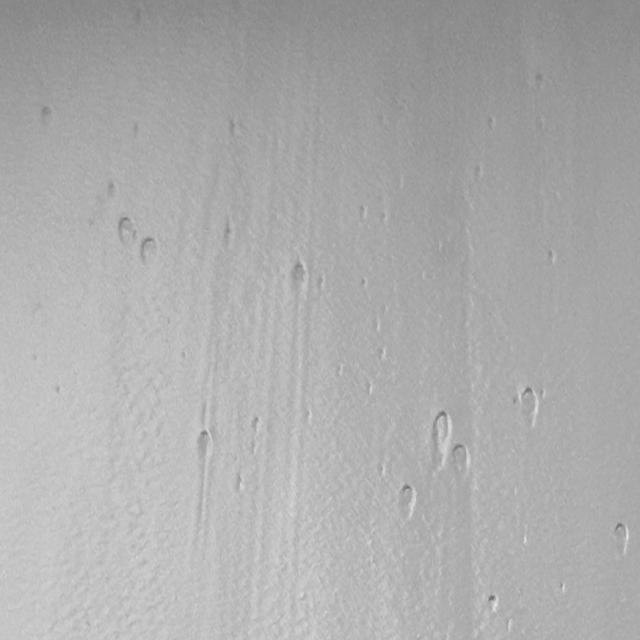pin holes: (423, 410, 453, 468), (516, 386, 544, 428), (116, 212, 140, 247), (395, 483, 418, 519), (610, 521, 633, 556), (139, 237, 163, 267), (289, 260, 310, 290), (452, 446, 472, 477), (195, 431, 213, 461), (36, 104, 56, 130), (227, 112, 242, 146), (220, 223, 238, 250), (532, 71, 551, 94), (128, 121, 146, 143), (482, 115, 500, 137), (485, 591, 502, 614), (543, 248, 561, 269), (470, 163, 486, 185), (107, 182, 122, 202), (374, 344, 388, 362), (234, 471, 244, 494), (250, 439, 259, 464), (358, 203, 370, 221), (315, 273, 326, 292), (52, 382, 65, 398), (252, 414, 264, 431), (556, 582, 567, 596), (360, 275, 370, 290)
